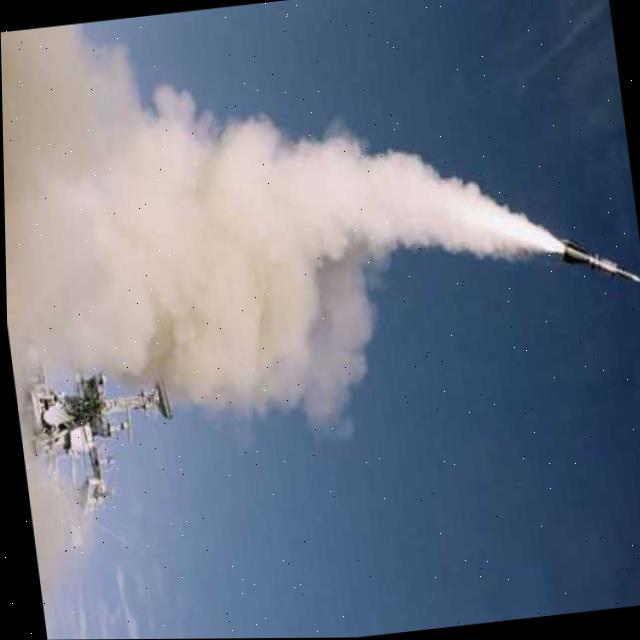missile: (562, 235, 640, 295)
